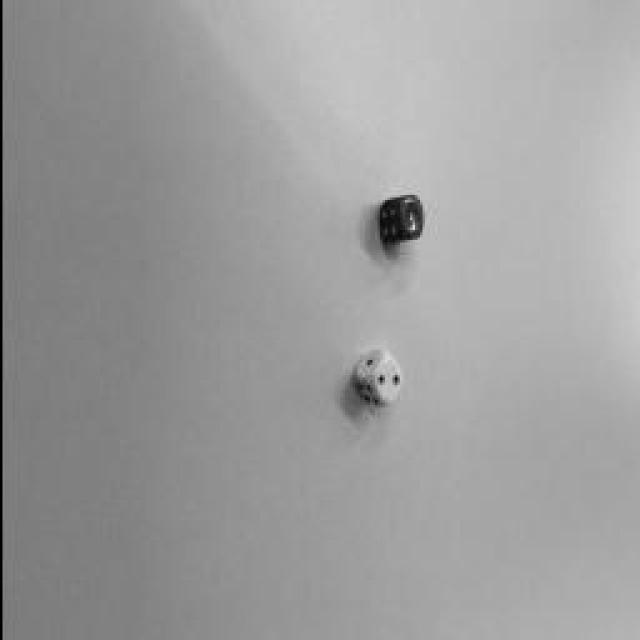dice_1: (398, 195, 422, 237)
dice_2: (374, 358, 398, 402)
